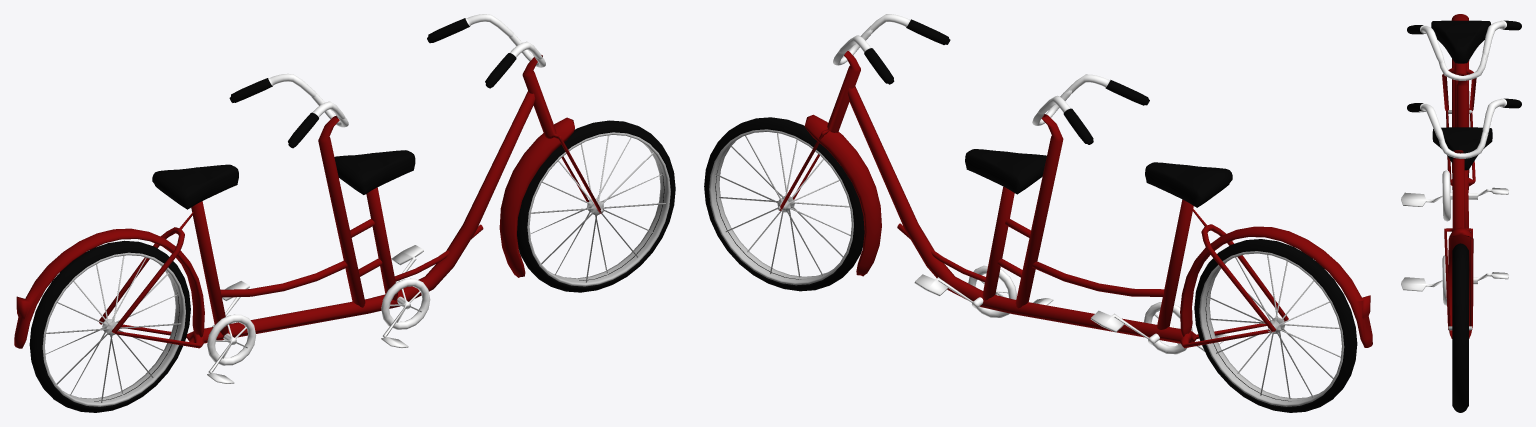
Rendered from bicidoble.obj.
3 renders of one model, left to right at view 1: azimuth 30°, elevation 25°; view 2: azimuth 150°, elevation 25°; view 3: azimuth 270°, elevation 25°, orthographic. The views are drawn at different scales.
Parts seen in each view (by area): view 1: parachok, rueda, asiento, pedales, torus43_copy48, torus43; view 2: parachok, rueda, asiento, pedales, torus43, torus43_copy48; view 3: parachok, asiento, rueda, pedales, torus43_copy48, torus43.
Part boxes in pixels (bbox=[...]): parachok: bbox=[14, 55, 601, 348]; rueda: bbox=[29, 120, 675, 412]; asiento: bbox=[152, 150, 415, 209]; pedales: bbox=[207, 245, 430, 383]; torus43_copy48: bbox=[427, 14, 545, 88]; torus43: bbox=[229, 73, 348, 148]; parachok: bbox=[779, 50, 1372, 348]; rueda: bbox=[704, 117, 1357, 412]; asiento: bbox=[965, 149, 1232, 207]; pedales: bbox=[914, 265, 1228, 354]; torus43: bbox=[1032, 74, 1149, 144]; torus43_copy48: bbox=[833, 14, 950, 84]; parachok: bbox=[1442, 14, 1476, 338]; asiento: bbox=[1431, 20, 1492, 170]; rueda: bbox=[1448, 110, 1471, 412]; pedales: bbox=[1401, 170, 1508, 305]; torus43_copy48: bbox=[1407, 98, 1521, 158]; torus43: bbox=[1407, 20, 1521, 80].
Size of the model in its own units: 8.11 by 3.37 by 1.4.
